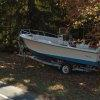Boat: (17, 22, 100, 76)
